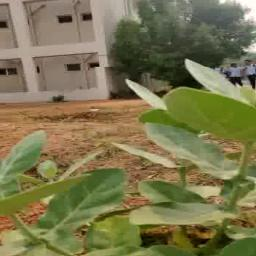Calotropis: (0, 122, 255, 255), (90, 66, 255, 136)
